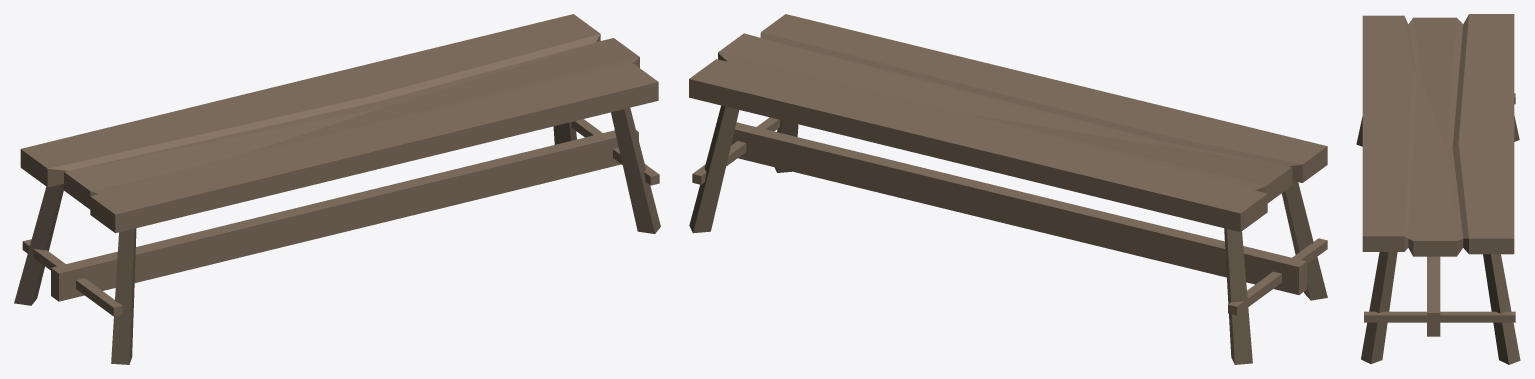
The model's file is SM_Prop_Bench_01.fbx.
3 renders of one model, left to right at view 1: azimuth 30°, elevation 25°; view 2: azimuth 150°, elevation 25°; view 3: azimuth 270°, elevation 25°, orthographic. The views are drawn at different scales.
Parts seen in each view (by area): view 1: SM_Prop_Bench_01; view 2: SM_Prop_Bench_01; view 3: SM_Prop_Bench_01.
Boxes of the visible parts, x1,y1,x2,y2 form: SM_Prop_Bench_01: (14,14,660,364); SM_Prop_Bench_01: (689,14,1327,364); SM_Prop_Bench_01: (1356,14,1520,364).
Bounding box in the file's own units: 1.97 × 0.4865 × 0.5792.
